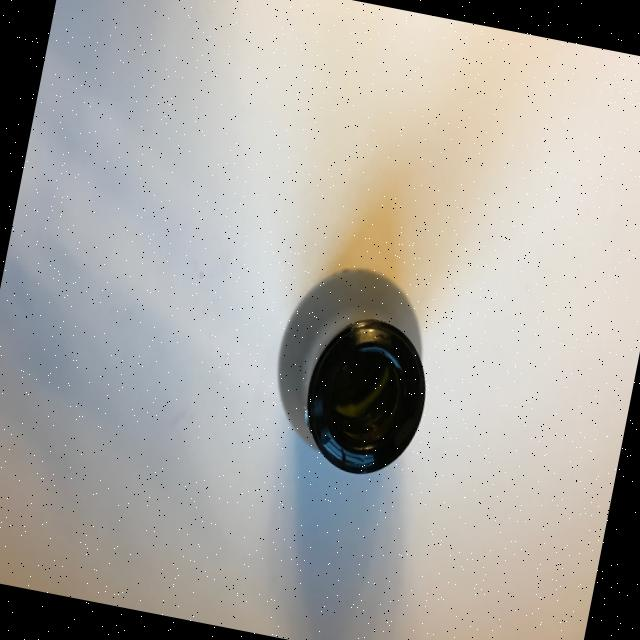glass: (255, 250, 451, 488)
